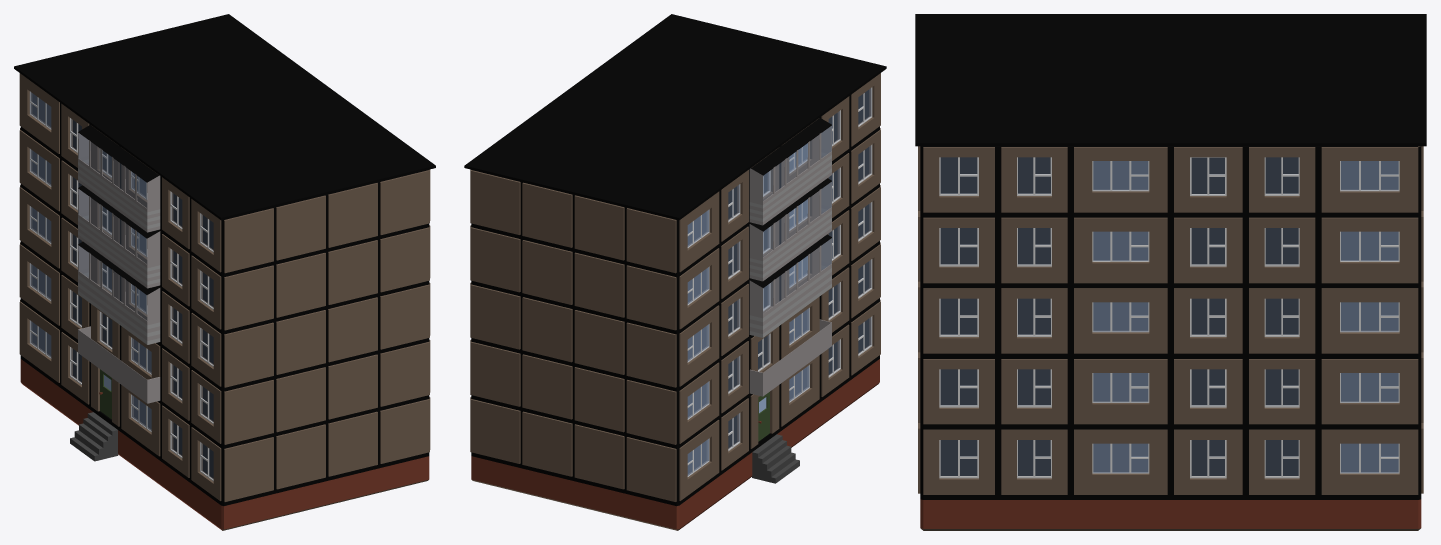
Rendered from house 3.fbx.
The picture shows the model from 3 angles, left to right: view 1: azimuth 30°, elevation 25°; view 2: azimuth 150°, elevation 25°; view 3: azimuth 270°, elevation 25°; orthographic projection. The views are drawn at different scales.
Parts seen in each view (by area): view 1: Cube; view 2: Cube; view 3: Cube.
Boxes of the visible parts, left/top/right/bottom form: Cube: left=14, top=14, right=435, bottom=530; Cube: left=464, top=14, right=886, bottom=530; Cube: left=915, top=14, right=1426, bottom=530.
Bounding box in the file's own units: 1386 × 1785 × 2117.
